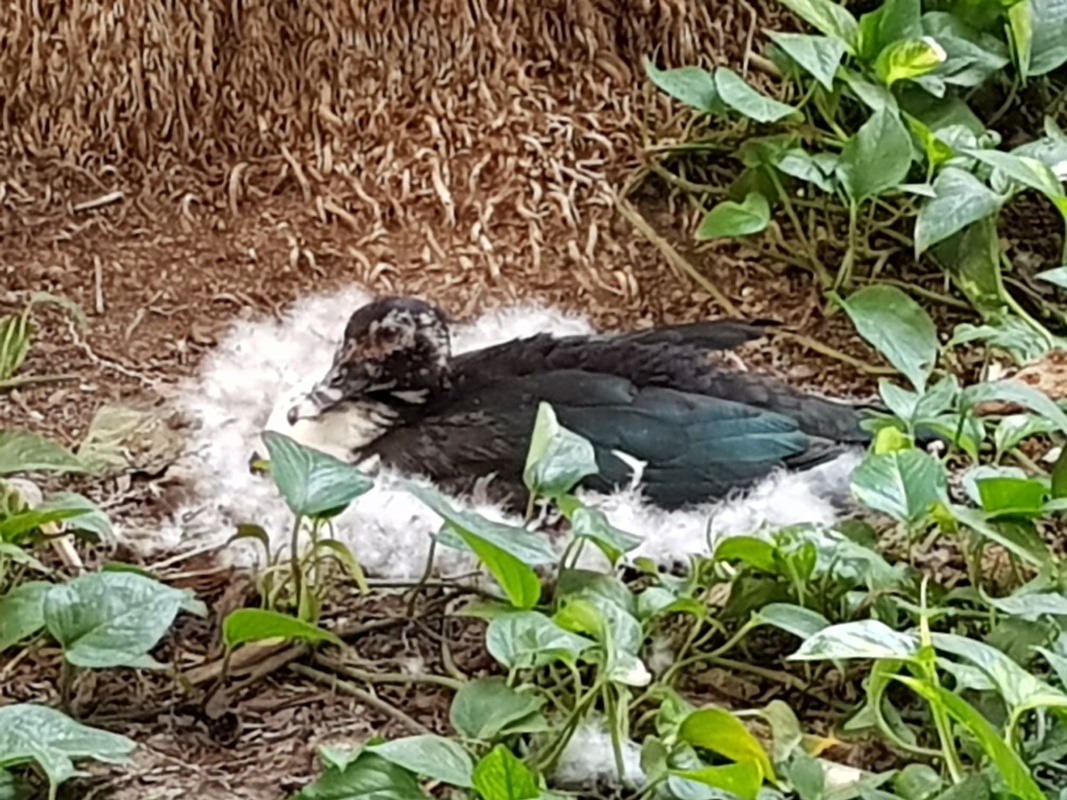pato: (308, 298, 801, 504)
